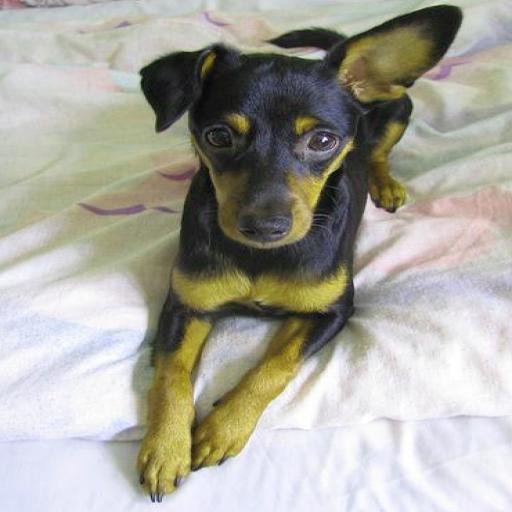dog_face: (136, 9, 455, 251)
